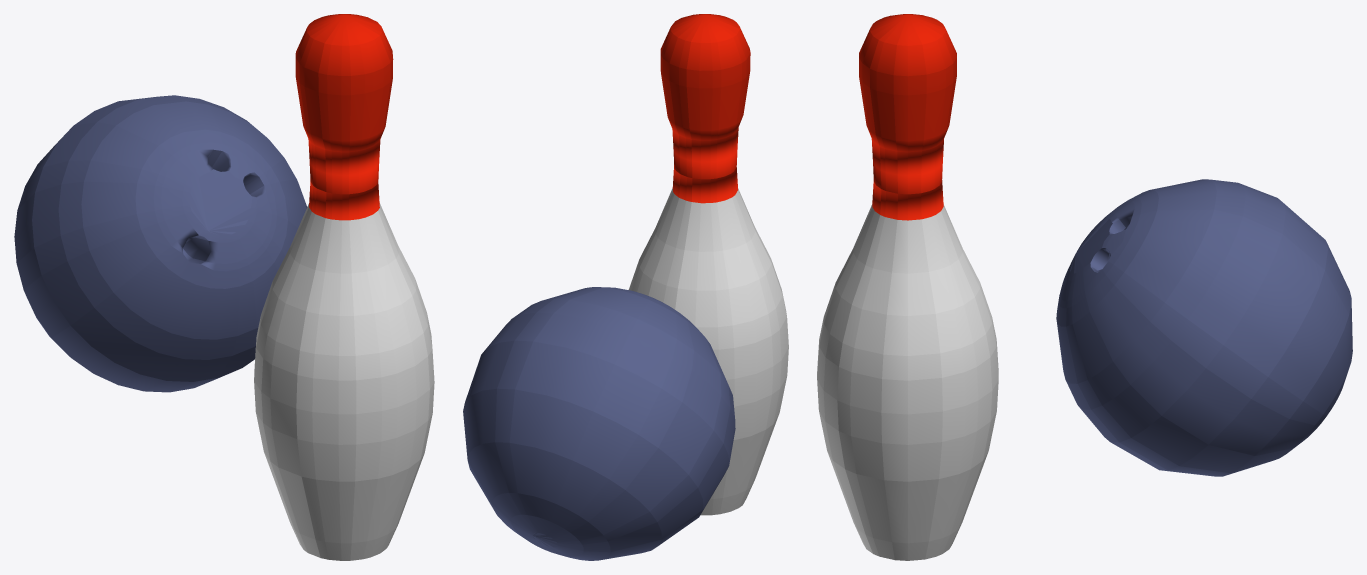
Rendered from bowling.fbx.
The picture shows the model from 3 angles, left to right: view 1: azimuth 30°, elevation 25°; view 2: azimuth 150°, elevation 25°; view 3: azimuth 270°, elevation 25°; orthographic projection. The views are drawn at different scales.
Parts seen in each view (by area): view 1: bowling:pin_NewMaterial3, bowling:ball_NewMaterial5; view 2: bowling:ball_NewMaterial5, bowling:pin_NewMaterial3; view 3: bowling:ball_NewMaterial5, bowling:pin_NewMaterial3.
Boxes of the visible parts, x1=… form: bowling:pin_NewMaterial3: x1=254, y1=14, x2=434, y2=560; bowling:ball_NewMaterial5: x1=14, y1=95, x2=307, y2=392; bowling:ball_NewMaterial5: x1=463, y1=287, x2=735, y2=560; bowling:pin_NewMaterial3: x1=628, y1=14, x2=788, y2=515; bowling:ball_NewMaterial5: x1=1056, y1=179, x2=1352, y2=476; bowling:pin_NewMaterial3: x1=817, y1=14, x2=998, y2=560.
Size of the model in its own units: 140 by 274 by 252.
